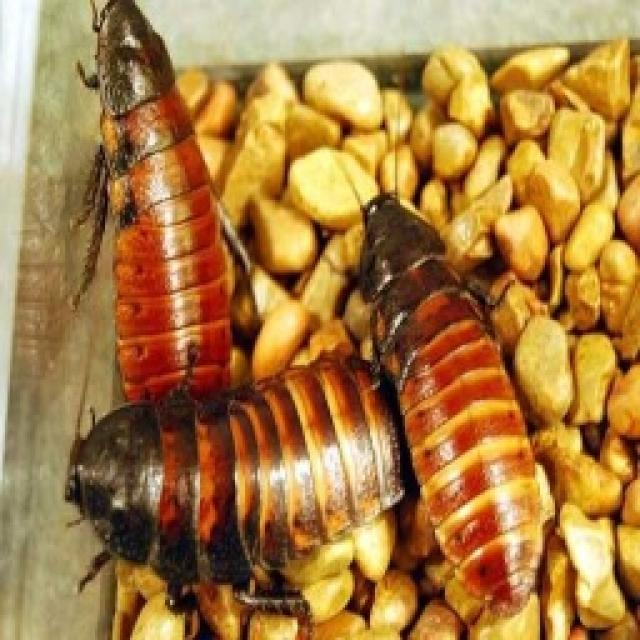cockroach: (339, 169, 589, 627), (66, 0, 298, 485), (59, 342, 473, 610)
